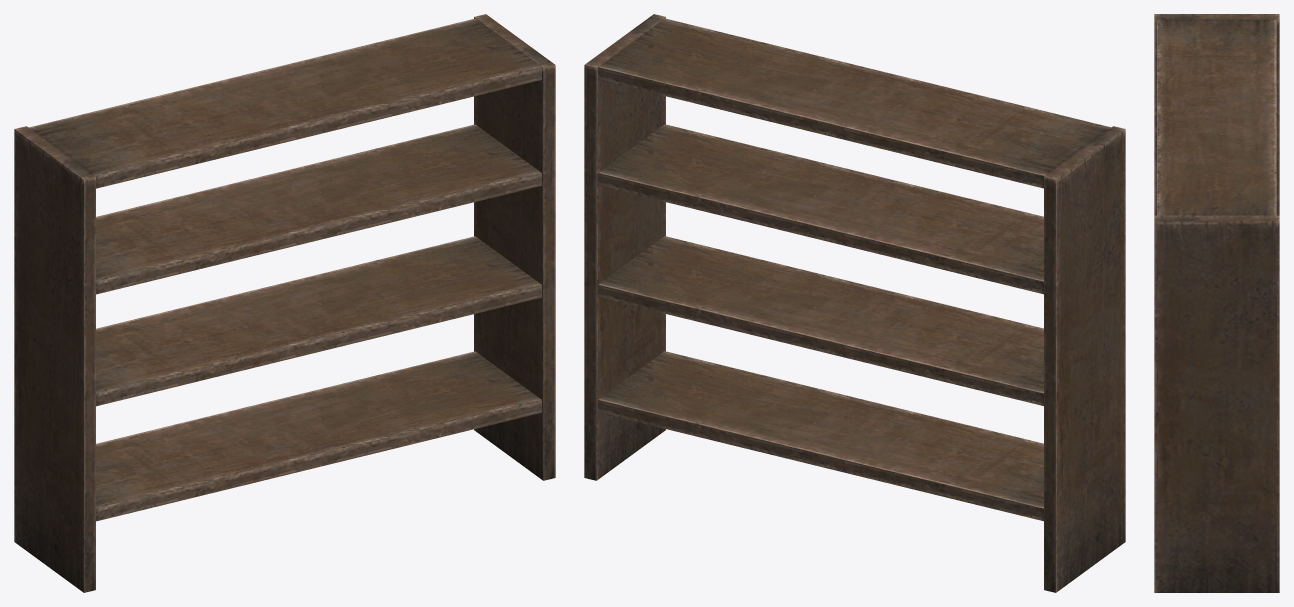
The model's file is WoodJiaZi_3.fbx.
3 renders of one model, left to right at view 1: azimuth 30°, elevation 25°; view 2: azimuth 150°, elevation 25°; view 3: azimuth 270°, elevation 25°, orthographic. The views are drawn at different scales.
Parts seen in each view (by area): view 1: 3D_WoodJiaZi3.mo; view 2: 3D_WoodJiaZi3.mo; view 3: 3D_WoodJiaZi3.mo.
Part boxes in pixels (x1=…): 3D_WoodJiaZi3.mo: x1=14, y1=14, x2=555, y2=592; 3D_WoodJiaZi3.mo: x1=584, y1=14, x2=1125, y2=592; 3D_WoodJiaZi3.mo: x1=1154, y1=14, x2=1279, y2=592.
Size of the model in its own units: 44.25 by 37.05 by 11.3.
